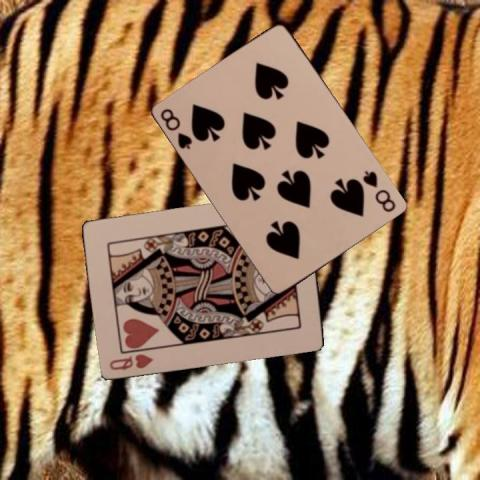8s: (360, 167, 398, 214), (157, 105, 194, 151)
Qh: (106, 351, 154, 371)
